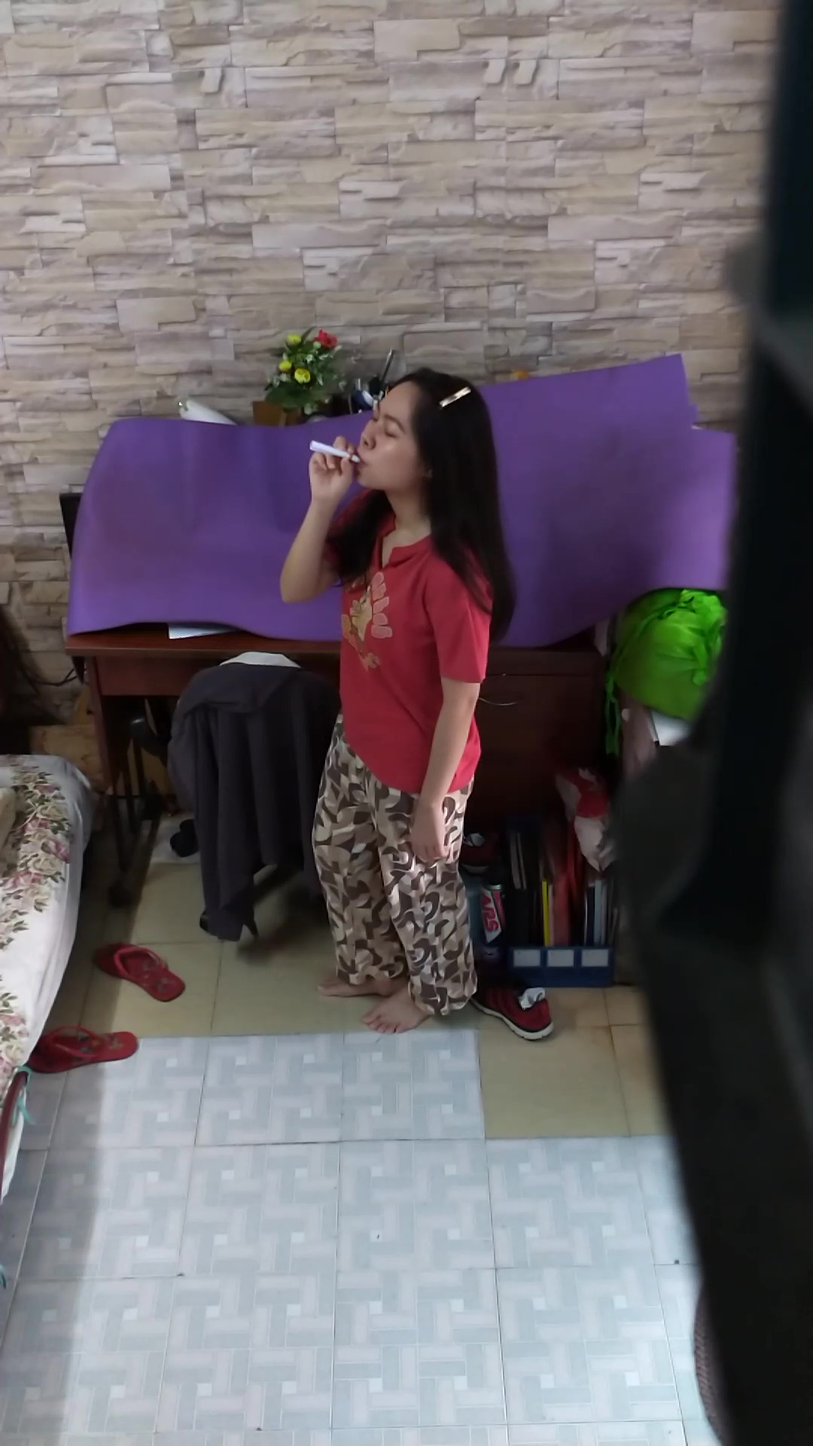cigarette: (305, 436, 350, 459)
person: (280, 358, 505, 1021)
